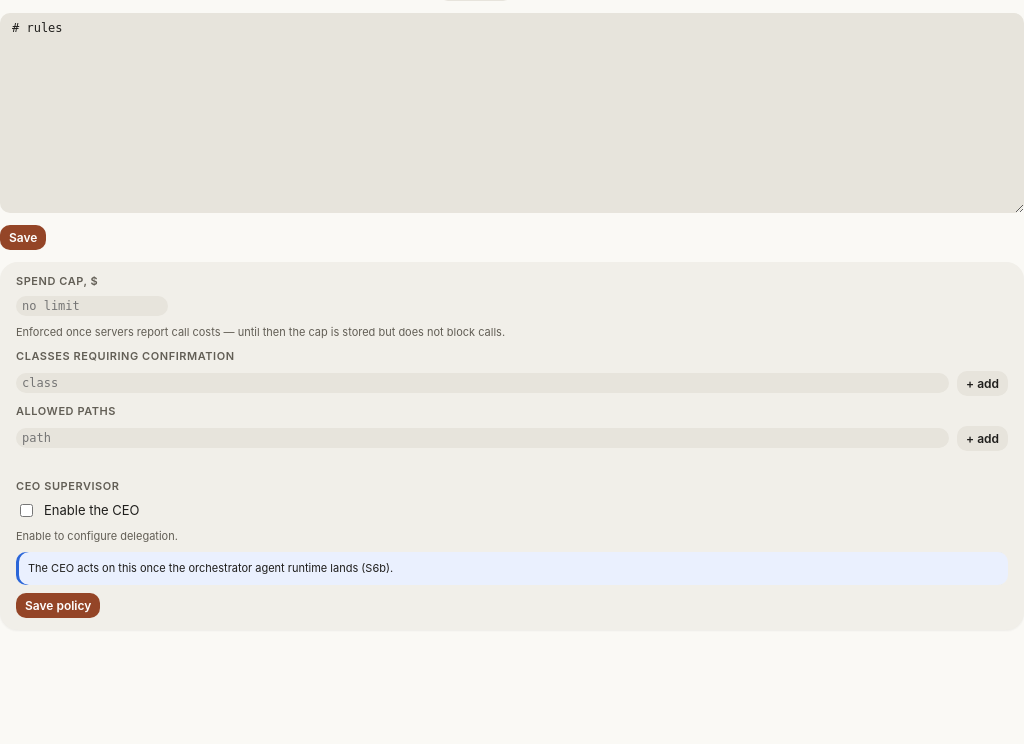
Test: RulesetPanel — CEO supervisor (SCN-046) › enabling the CEO reveals the detail controls (info-access, scope summary, MCP-soon) and hides the hint
The image size is (1024, 744).
Click the checkbox with test id "ruleset-supervisor-enable" at (26, 510), box [20, 504, 33, 516]
(page scrolled)
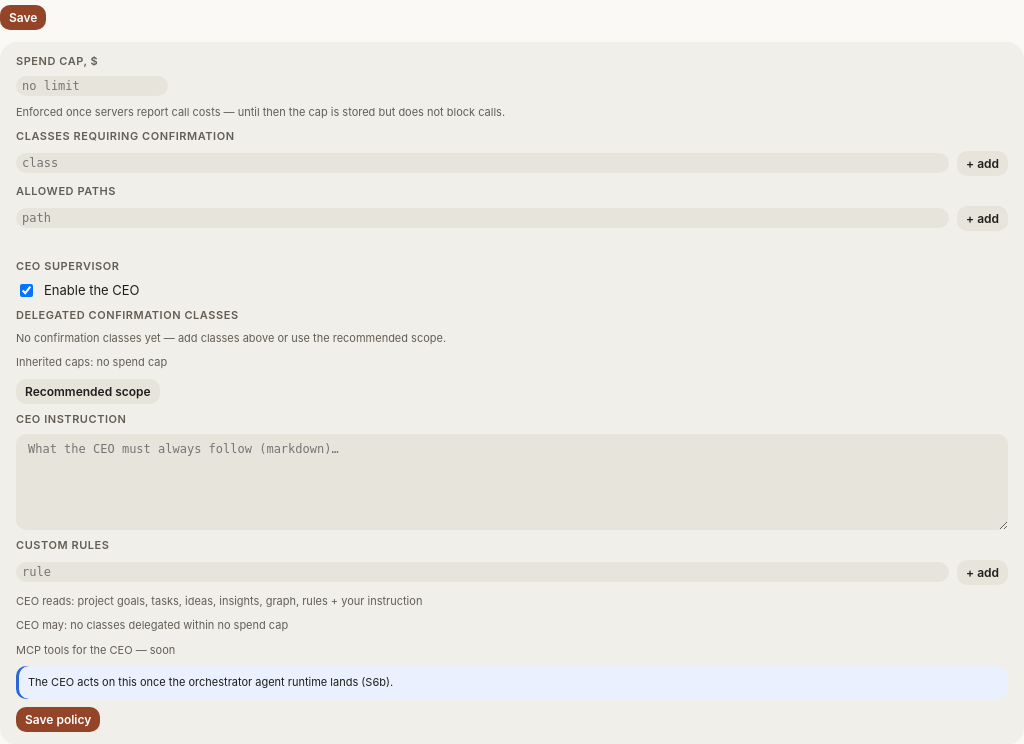
Check: the text with test id "ruleset-supervisor-disabled-hint" is gone
Check: the text with test id "ruleset-supervisor-info-access" shows "CEO reads: project goals, tasks, ideas, insights, graph, rules + your instruction", box [16, 594, 422, 608]
Check: the text with test id "ruleset-supervisor-mcp-soon" reads "MCP tools for the CEO — soon", box [16, 642, 175, 656]
